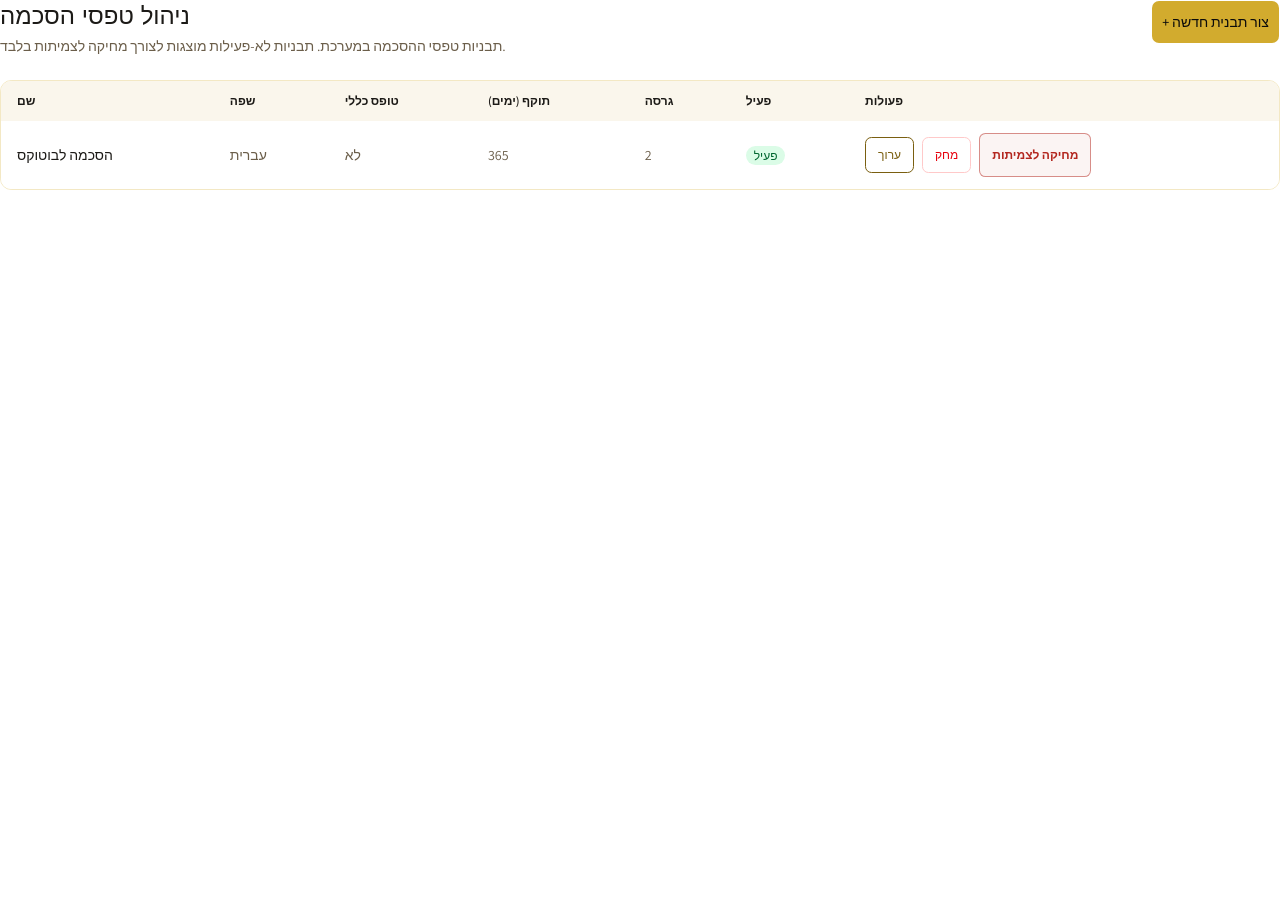
Scenario: ConsentTemplatesList — ביצוע מחיקה לצמיתות › כשל → מציג הודעת שגיאה עברית בדיאלוג ואינו טוען מחדש
The width and height of the screenshot is (1280, 900).
Click the button "מחיקה לצמיתות" at (1035, 155), box [979,133,1092,177]
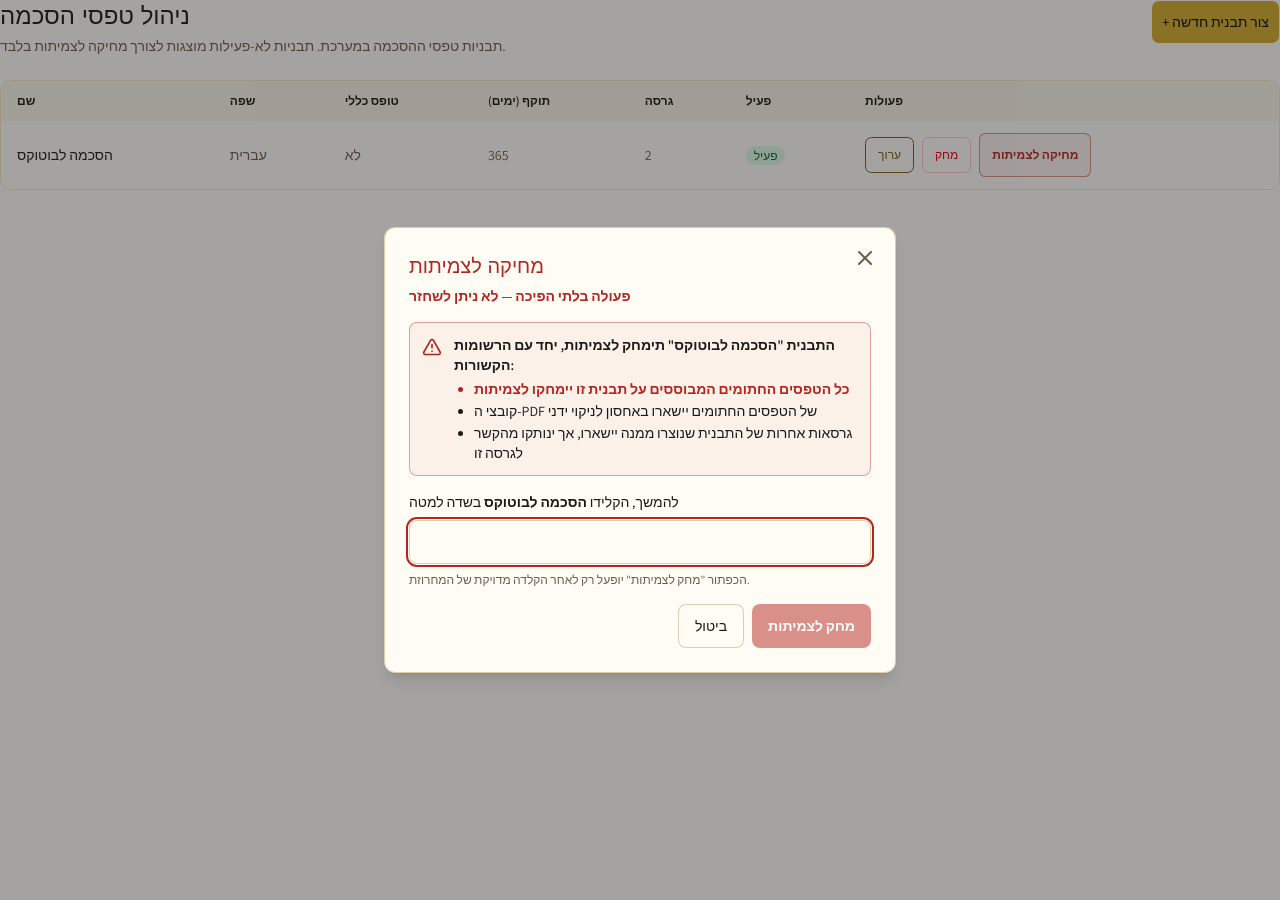
Type "הסכמה לבוטוקס" into the field at (640, 542), box [409,520,871,564]
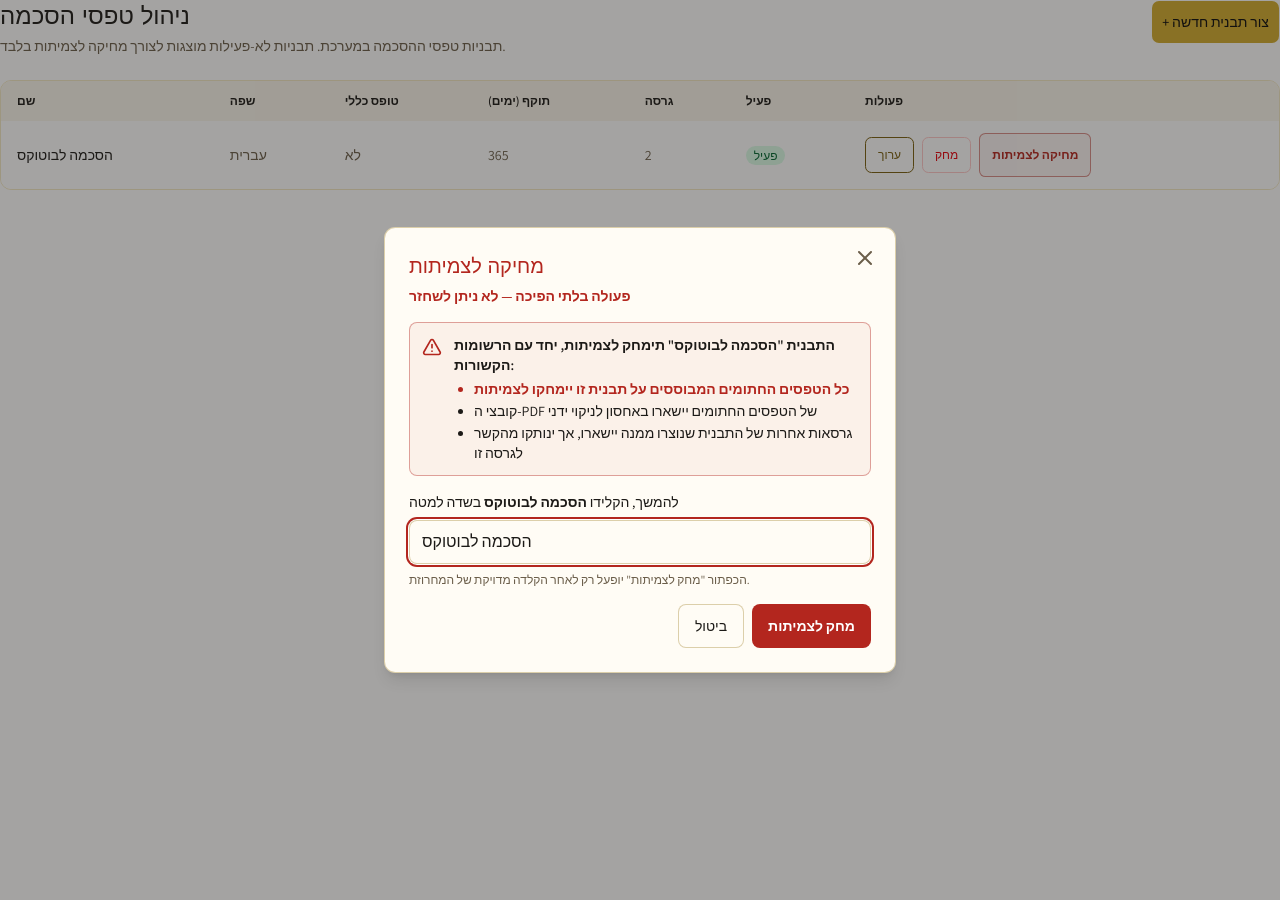
Click the button "מחק לצמיתות" at (812, 626), box [752,604,871,648]
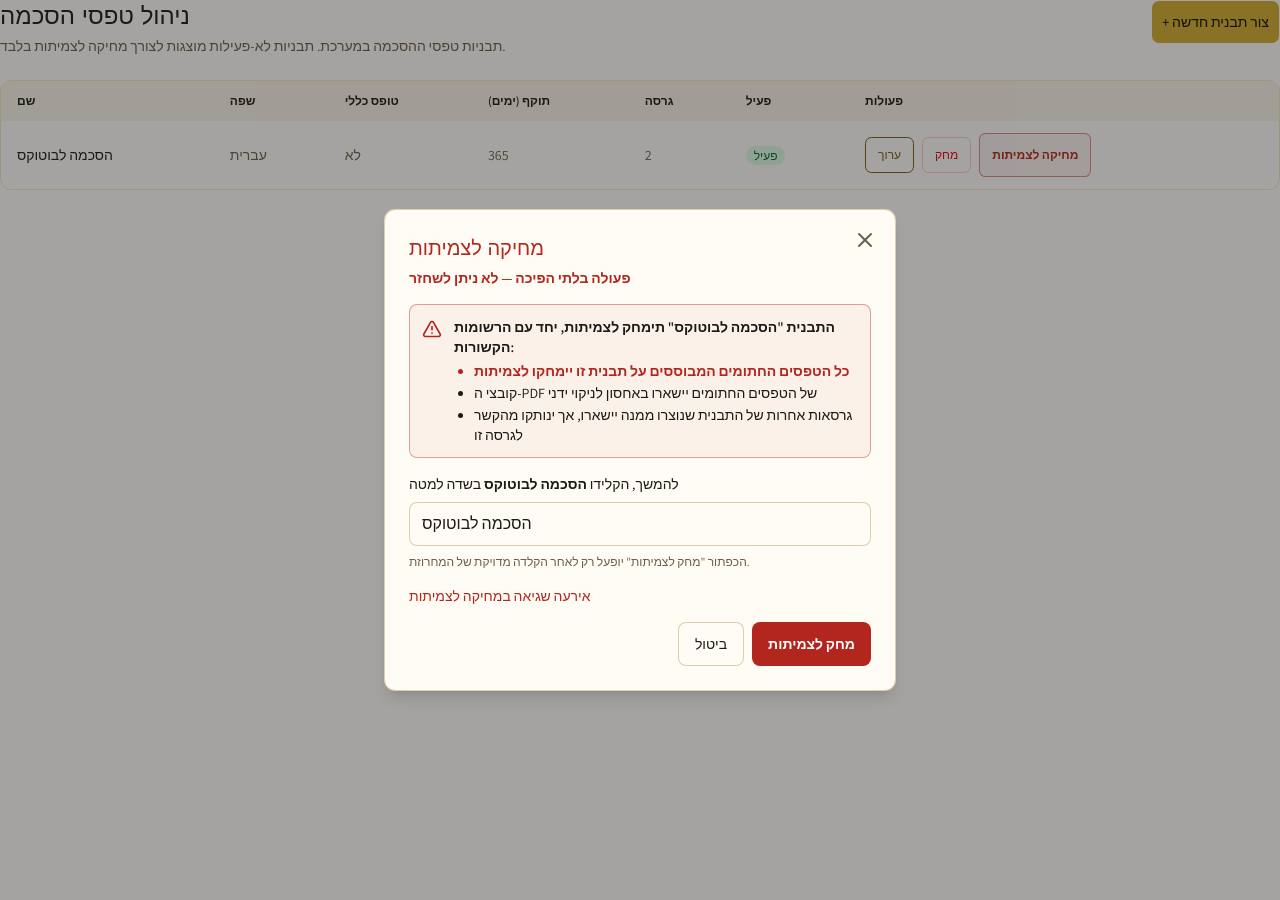
Expected: the message reads "אירעה שגיאה במחיקה לצמיתות", [409,587,590,605]
